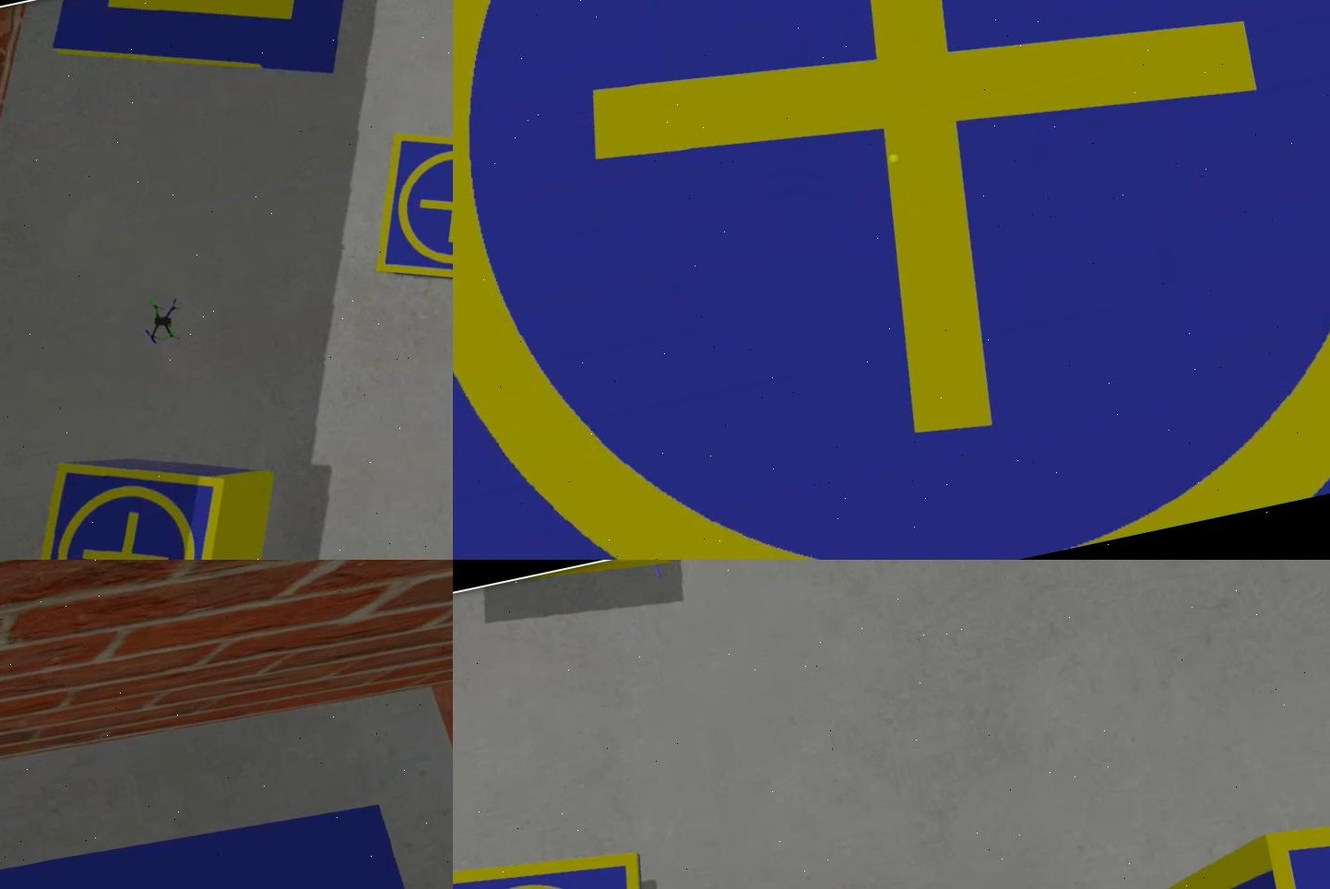large_base: (0, 765, 452, 889), (39, 1, 379, 126)
small_base: (452, 1, 1328, 561), (0, 432, 266, 561), (350, 108, 452, 315)
